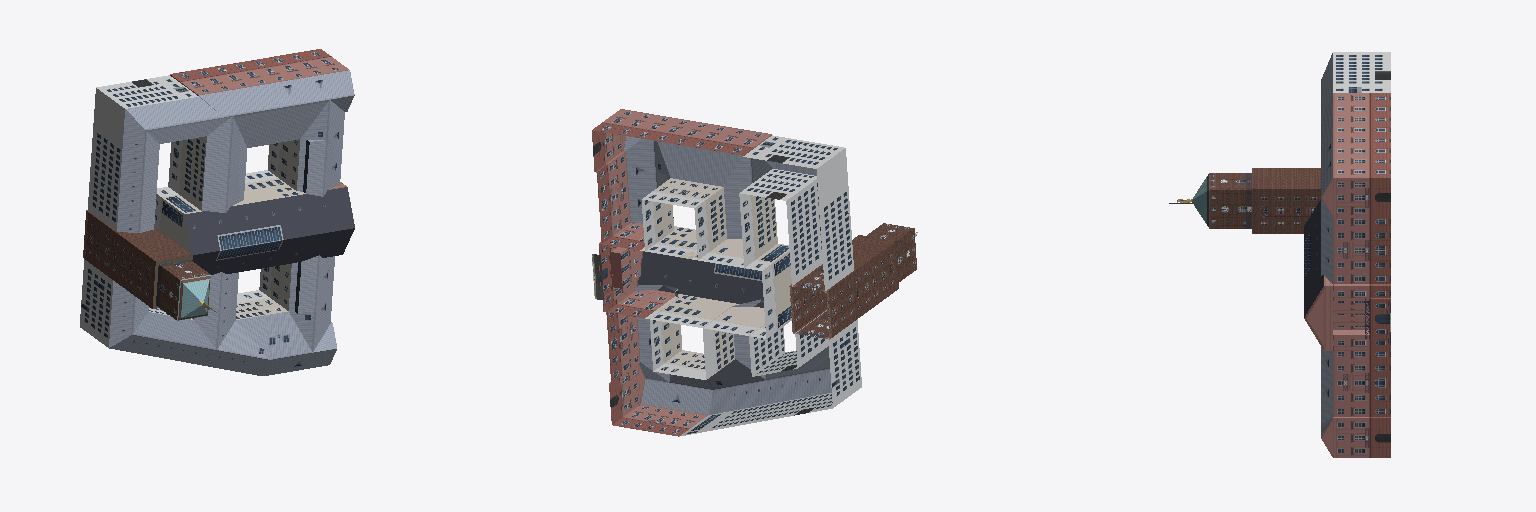
3 views of the same model, side by side, from view 1: azimuth 30°, elevation 25°; view 2: azimuth 150°, elevation 25°; view 3: azimuth 270°, elevation 25° (orthographic).
Visible parts, largest first — view 1: L; view 2: L; view 3: L.
Part boxes in pixels (bbox=[...]): L: bbox=[80, 49, 354, 375]; L: bbox=[592, 109, 917, 436]; L: bbox=[1169, 52, 1390, 457].
Bounding box in the file's own units: 65.5 × 79.42 × 52.4.
Materials: 1 (1 with a texture image).